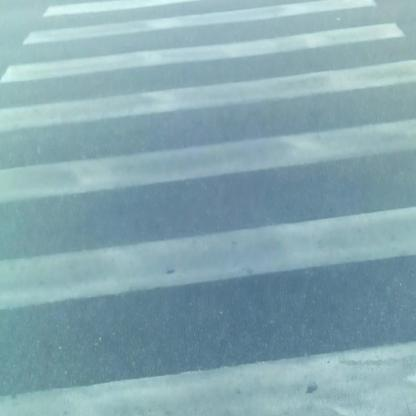crosswalk: (9, 7, 416, 409)
